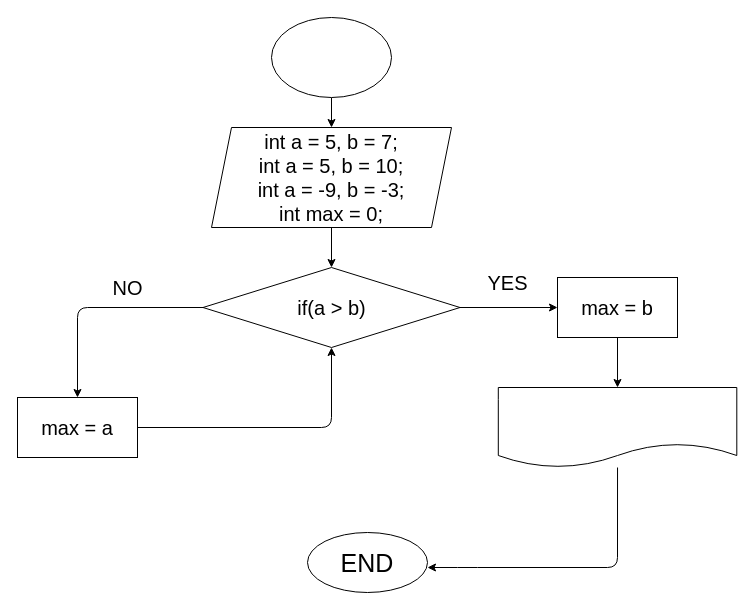
Some shapes in this 755 by 610 pixel diagram are drawn without their labels. Each missing label, with the centre of its shape:
Console.WriteLine(max): the point at 617,427
START: the point at 331,57
